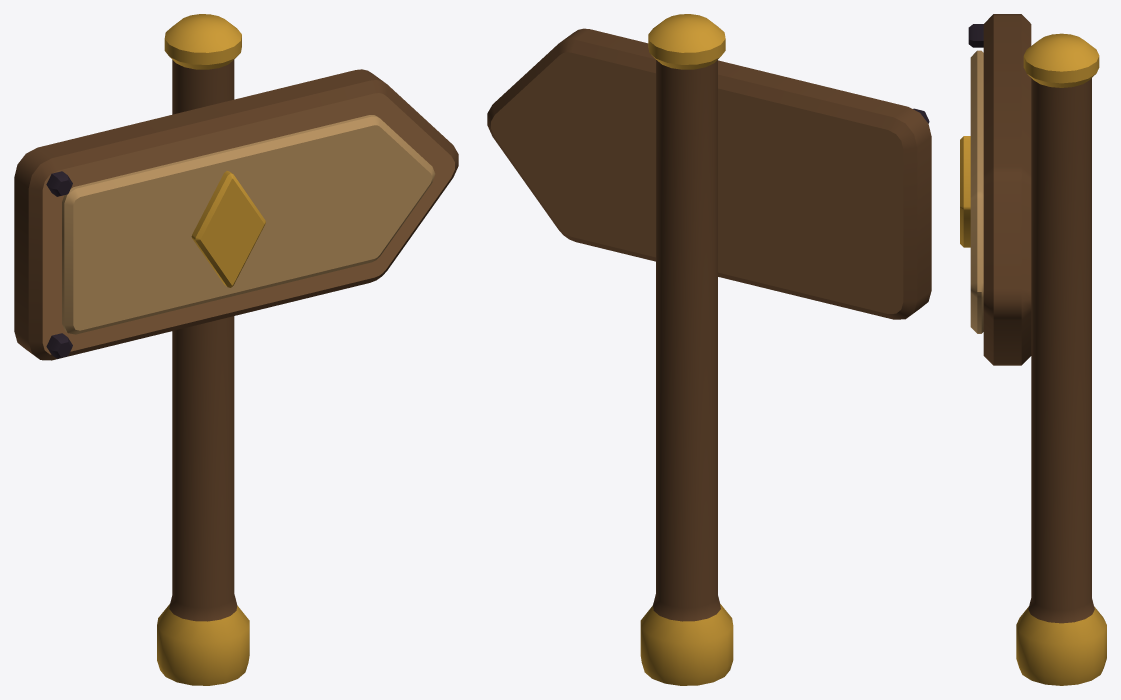
File: Sign_28.glb
The picture shows the model from 3 angles, left to right: view 1: azimuth 30°, elevation 25°; view 2: azimuth 150°, elevation 25°; view 3: azimuth 270°, elevation 25°; orthographic projection. The views are drawn at different scales.
Parts seen in each view (by area): view 1: Sign_28; view 2: Sign_28; view 3: Sign_28.
Part boxes in pixels (bbox=[...]): Sign_28: bbox=[14, 14, 458, 685]; Sign_28: bbox=[487, 14, 931, 685]; Sign_28: bbox=[960, 14, 1106, 685].
Bounding box in the file's own units: 2.23 × 3.21 × 0.68.
